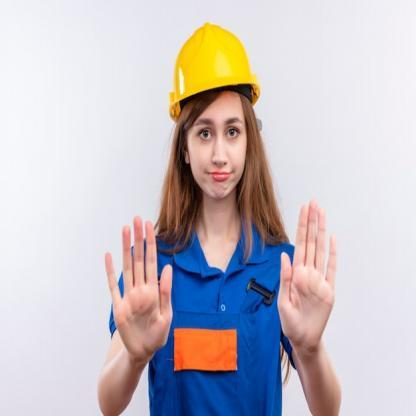stop: (101, 211, 175, 357), (276, 196, 338, 348)
